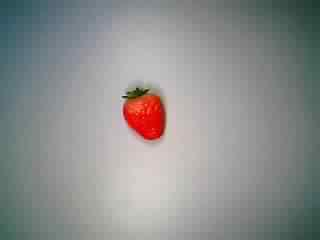strawberry: (113, 78, 171, 144)
